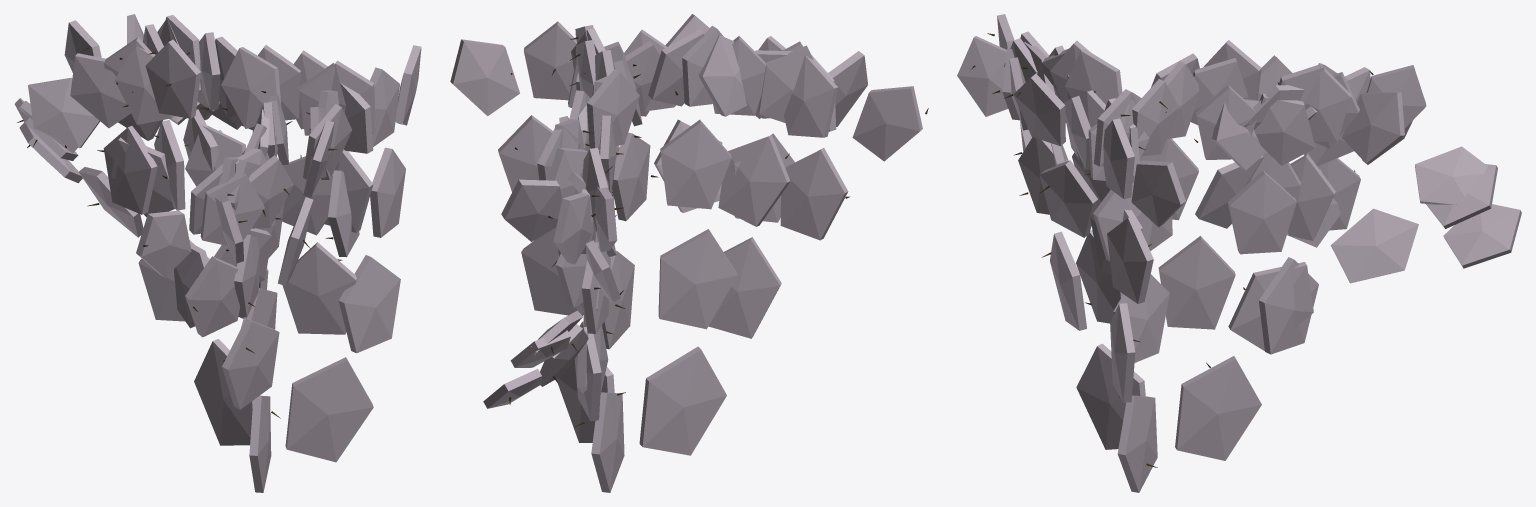
File: prickly_pear_v02_LOD1.fbx
3 renders of one model, left to right at view 1: azimuth 30°, elevation 25°; view 2: azimuth 150°, elevation 25°; view 3: azimuth 270°, elevation 25°, orthographic. The views are drawn at different scales.
Visible parts, largest first — view 1: prickly_pear_v02_LOD1; view 2: prickly_pear_v02_LOD1; view 3: prickly_pear_v02_LOD1.
Part boxes in pixels (x1,y1,x2,y2): prickly_pear_v02_LOD1: (14,14,421,492); prickly_pear_v02_LOD1: (450,14,928,492); prickly_pear_v02_LOD1: (957,14,1521,492).
Size of the model in its own units: 61.25 by 65.59 by 81.45.
Materials: 2 (1 with a texture image).
